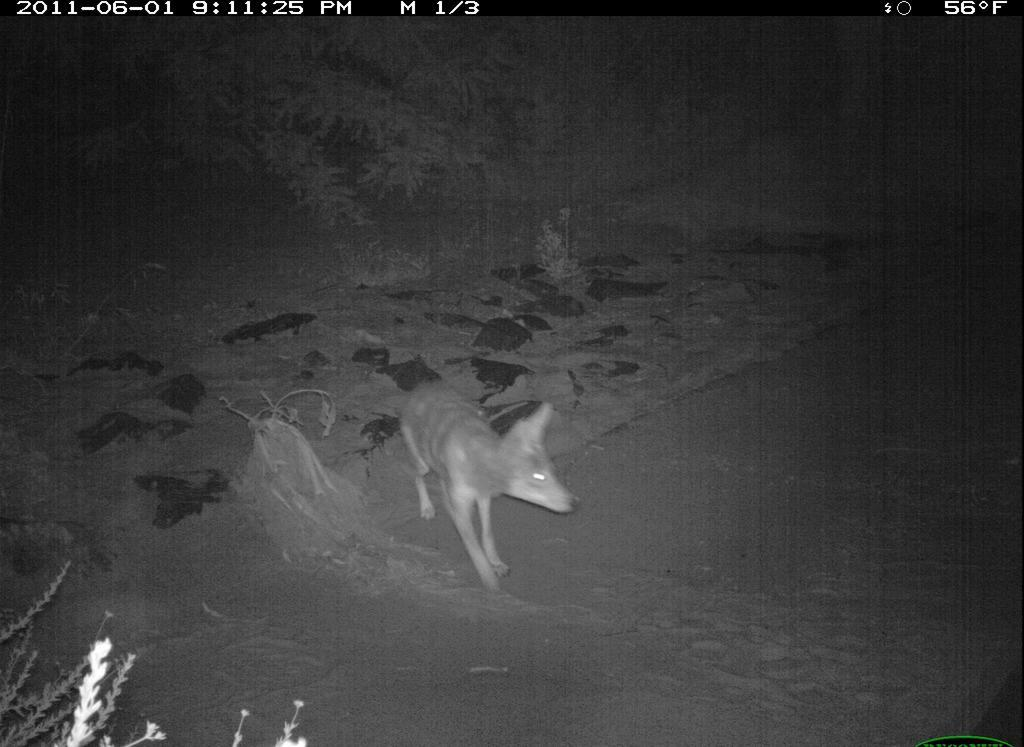coyote: (397, 379, 582, 591)
